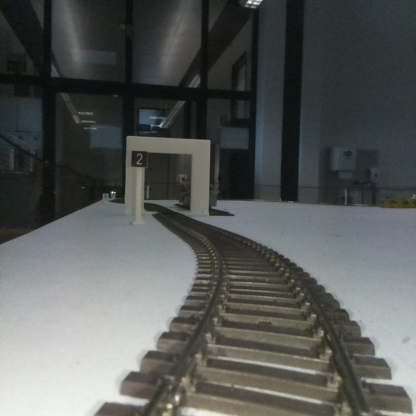black-info-2: (131, 151, 147, 222)
